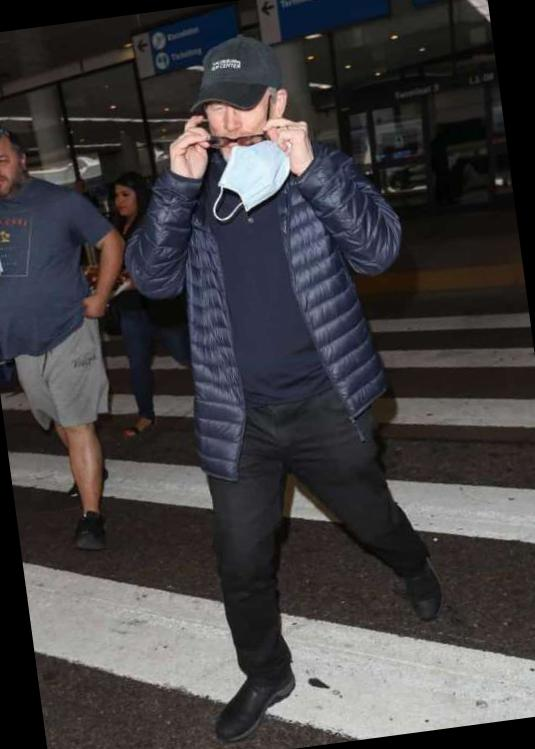mask_weared_incorrect: (207, 99, 283, 173)
without_mask: (1, 142, 24, 199), (110, 186, 138, 219)
